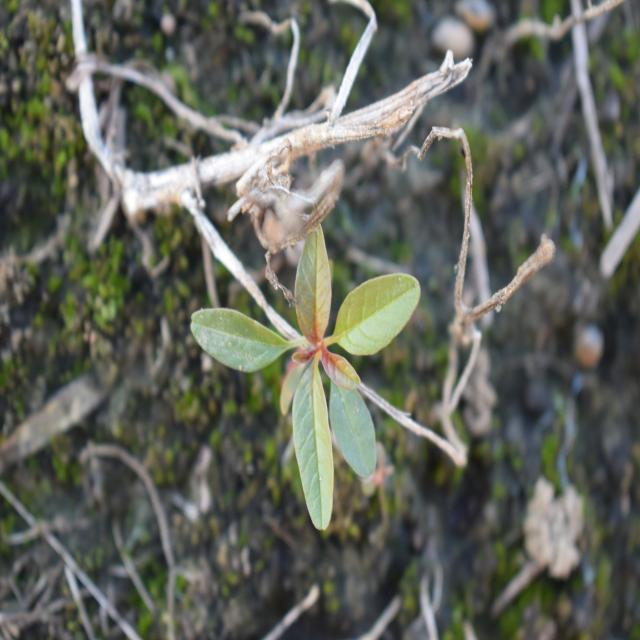Waterhemp: (188, 219, 422, 533)
